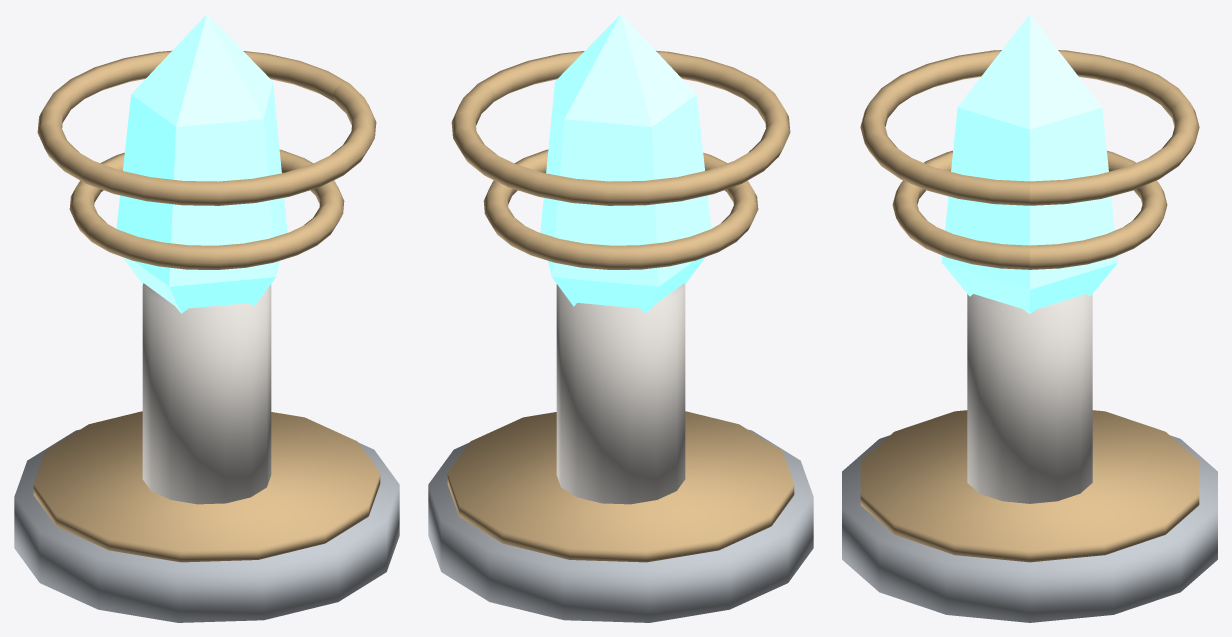
The model's file is int_song_prism.glb.
The picture shows the model from 3 angles, left to right: view 1: azimuth 30°, elevation 25°; view 2: azimuth 150°, elevation 25°; view 3: azimuth 270°, elevation 25°; orthographic projection.
Parts seen in each view (by area): view 1: INT_song_prism_gold, INT_song_prism_luminous_core, INT_song_prism_base, INT_song_prism_column, INT_song_prism_orbit_1, INT_song_prism_orbit_0; view 2: INT_song_prism_gold, INT_song_prism_luminous_core, INT_song_prism_base, INT_song_prism_column, INT_song_prism_orbit_1, INT_song_prism_orbit_0; view 3: INT_song_prism_gold, INT_song_prism_luminous_core, INT_song_prism_base, INT_song_prism_column, INT_song_prism_orbit_1, INT_song_prism_orbit_0.
Boxes of the visible parts, x1,y1,x2,y2 form: INT_song_prism_gold: (33,411,380,562); INT_song_prism_luminous_core: (116,14,287,313); INT_song_prism_base: (14,429,399,622); INT_song_prism_column: (142,283,271,504); INT_song_prism_orbit_1: (37,50,376,205); INT_song_prism_orbit_0: (69,149,344,269); INT_song_prism_gold: (447,411,794,562); INT_song_prism_luminous_core: (540,14,711,313); INT_song_prism_base: (428,429,813,622); INT_song_prism_column: (556,283,685,504); INT_song_prism_orbit_1: (451,50,790,205); INT_song_prism_orbit_0: (483,149,758,269); INT_song_prism_gold: (860,410,1199,562); INT_song_prism_luminous_core: (941,14,1118,313); INT_song_prism_base: (842,435,1217,622); INT_song_prism_column: (967,294,1092,503); INT_song_prism_orbit_1: (860,50,1199,205); INT_song_prism_orbit_0: (892,150,1167,269).
Bounding box in the file's own units: 1.08 × 1.63 × 1.05.
